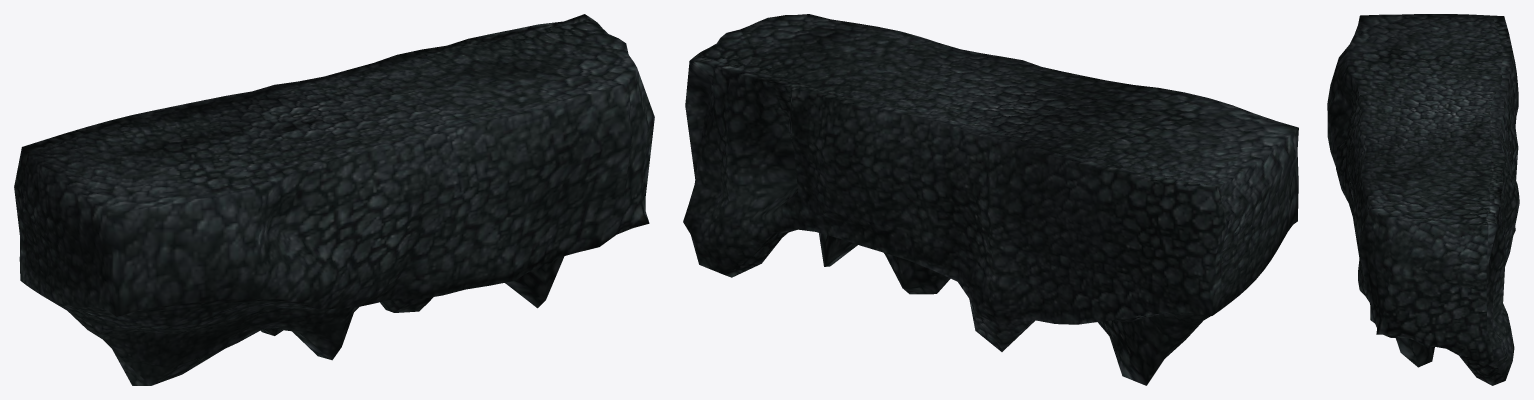
3 views of the same model, side by side, from view 1: azimuth 30°, elevation 25°; view 2: azimuth 150°, elevation 25°; view 3: azimuth 270°, elevation 25° (orthographic). The views are drawn at different scales.
Visible parts, largest first — view 1: L_Piece_B; view 2: L_Piece_B; view 3: L_Piece_B.
Boxes of the visible parts, left/top/right/bottom form: L_Piece_B: left=14, top=14, right=654, bottom=385; L_Piece_B: left=683, top=14, right=1298, bottom=385; L_Piece_B: left=1327, top=14, right=1519, bottom=385.
Size of the model in its own units: 515 by 206 by 191.
